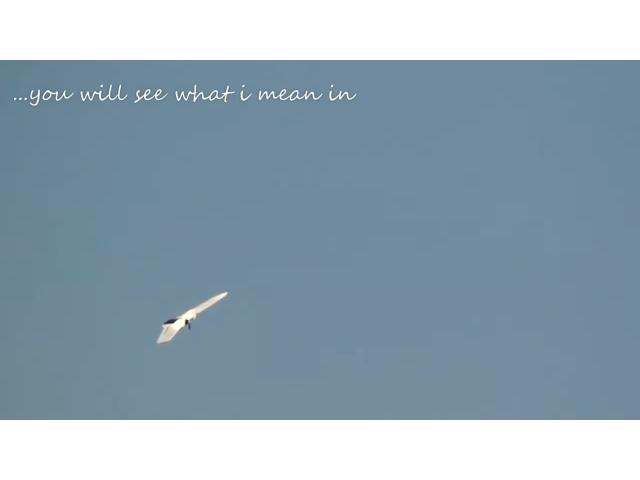Anti-Drone: (158, 295, 228, 346)
